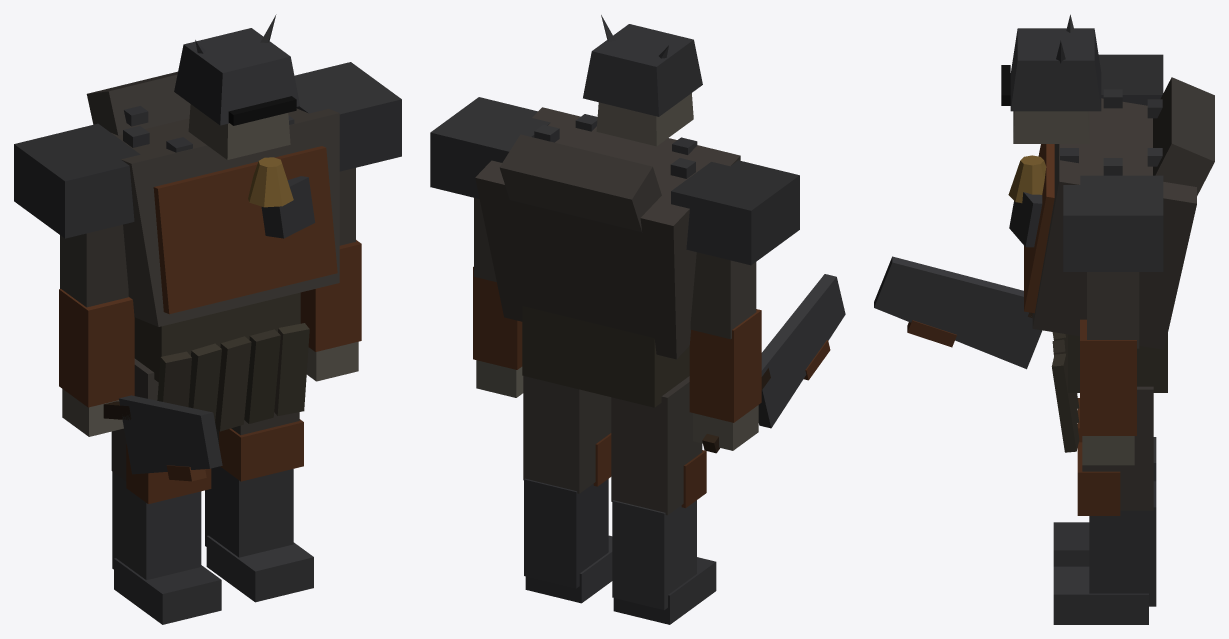
The model's file is brute.glb.
3 views of the same model, side by side, from view 1: azimuth 30°, elevation 25°; view 2: azimuth 150°, elevation 25°; view 3: azimuth 270°, elevation 25° (orthographic). The views are drawn at different scales.
Parts seen in each view (by area): view 1: Torso, Arm_R, Leg_L, Leg_R, Arm_L, Head, Weapon; view 2: Torso, Arm_R, Leg_R, Leg_L, Arm_L, Head, Weapon; view 3: Torso, Arm_L, Leg_L, Weapon, Head, Arm_R, Leg_R.
Part boxes in pixels (x1,y1,x2,y2): Torso: (86,71,339,431); Arm_R: (14,123,140,436); Leg_L: (205,412,313,602); Leg_R: (111,358,221,624); Arm_L: (294,62,401,381); Head: (174,14,299,159); Weapon: (103,395,222,481); Torso: (475,107,740,407); Arm_R: (671,160,799,450); Leg_R: (611,376,716,624); Leg_L: (523,376,612,603); Arm_L: (430,97,550,397); Head: (583,15,702,146); Weapon: (702,274,845,453); Torso: (1008,77,1214,452); Arm_L: (1063,175,1163,465); Leg_L: (1053,386,1156,624); Weapon: (874,256,1042,369); Head: (1001,14,1101,143); Arm_R: (1098,54,1163,105); Leg_R: (1053,398,1156,566).
Bounding box in the file's own units: 1.6 × 2.63 × 1.43.
